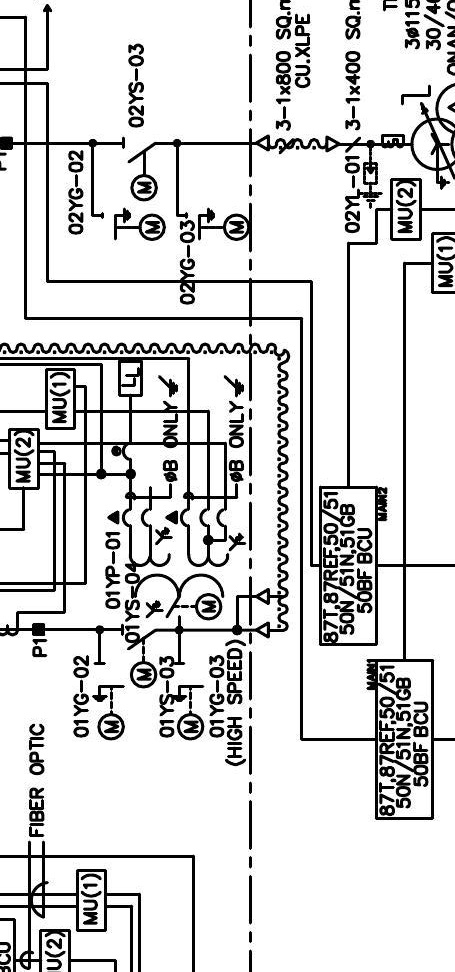115_1way_ds_w_motor: (121, 623, 158, 690), (122, 136, 159, 203), (165, 592, 223, 622)
115_gs_w_motor: (91, 662, 126, 741), (171, 661, 205, 741), (184, 207, 251, 242), (101, 207, 167, 242)
115_vt_3p: (106, 507, 247, 618)
LL: (118, 360, 144, 398)
MU: (389, 178, 423, 241), (8, 427, 41, 491), (45, 367, 77, 431), (76, 869, 108, 932)
terminator_double: (235, 587, 270, 639)
terminator_single: (324, 135, 341, 153), (254, 133, 270, 152)
